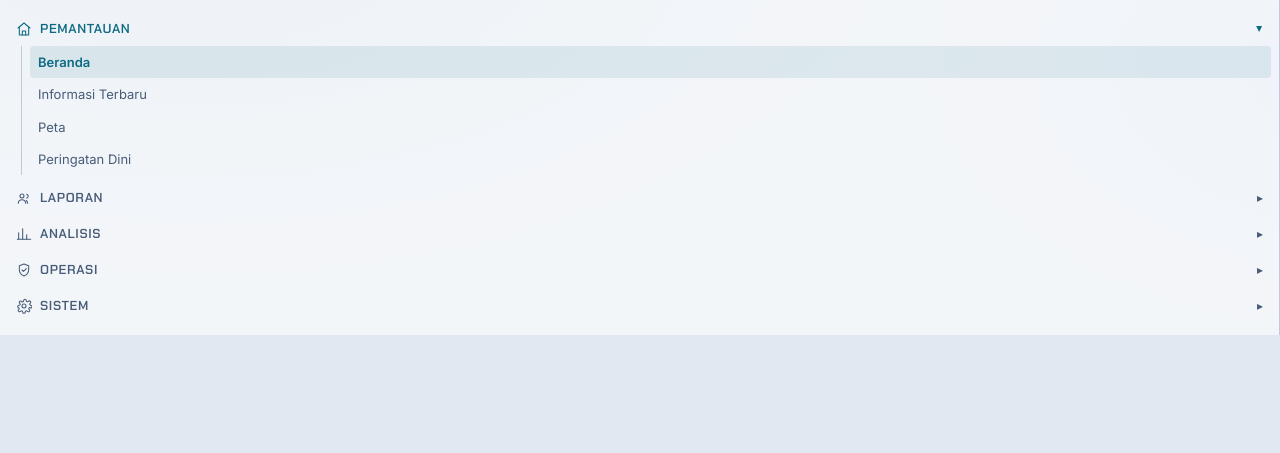
Scenario: shell aplikasi › membuka kelompok lain ketika judulnya ditekan
What coordinates should you click on to do the following:
click the button "Sistem ▸"
I would click on:
 (64, 306)
Its box is [8, 289, 1271, 323].
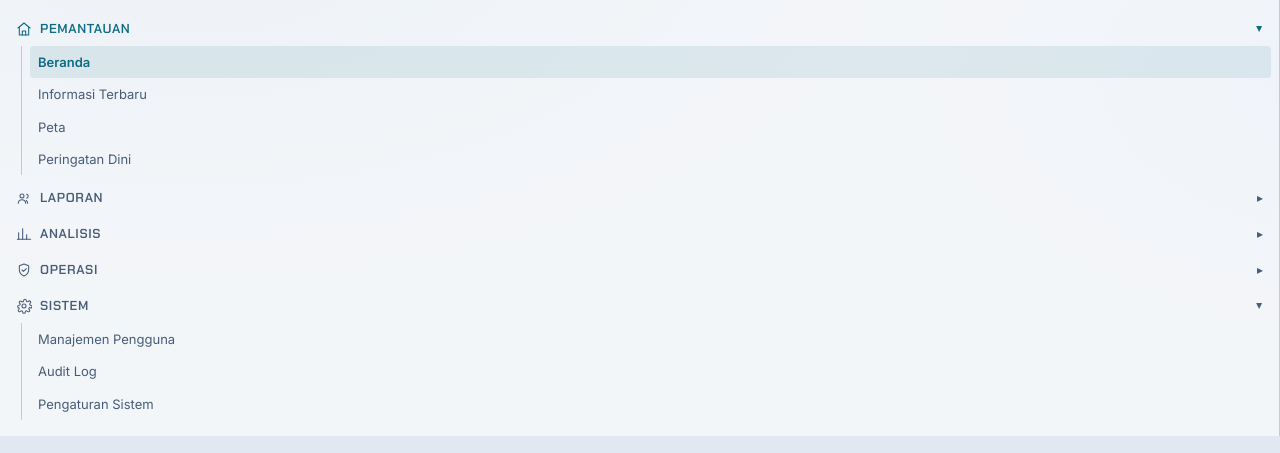
Check: the link "Beranda" is shown, box [30, 46, 1271, 78]
Check: the link "Audit Log" is shown, box [38, 363, 97, 379]
